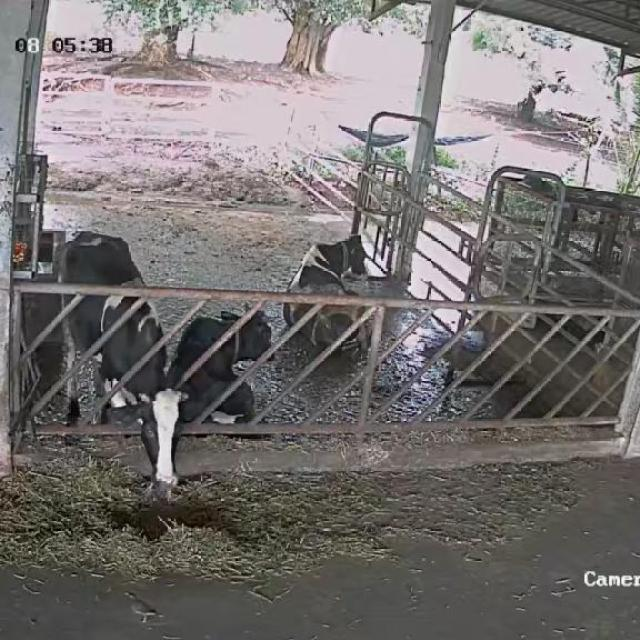feeding: (53, 231, 179, 493)
lying down: (173, 303, 279, 433), (284, 231, 374, 352)
